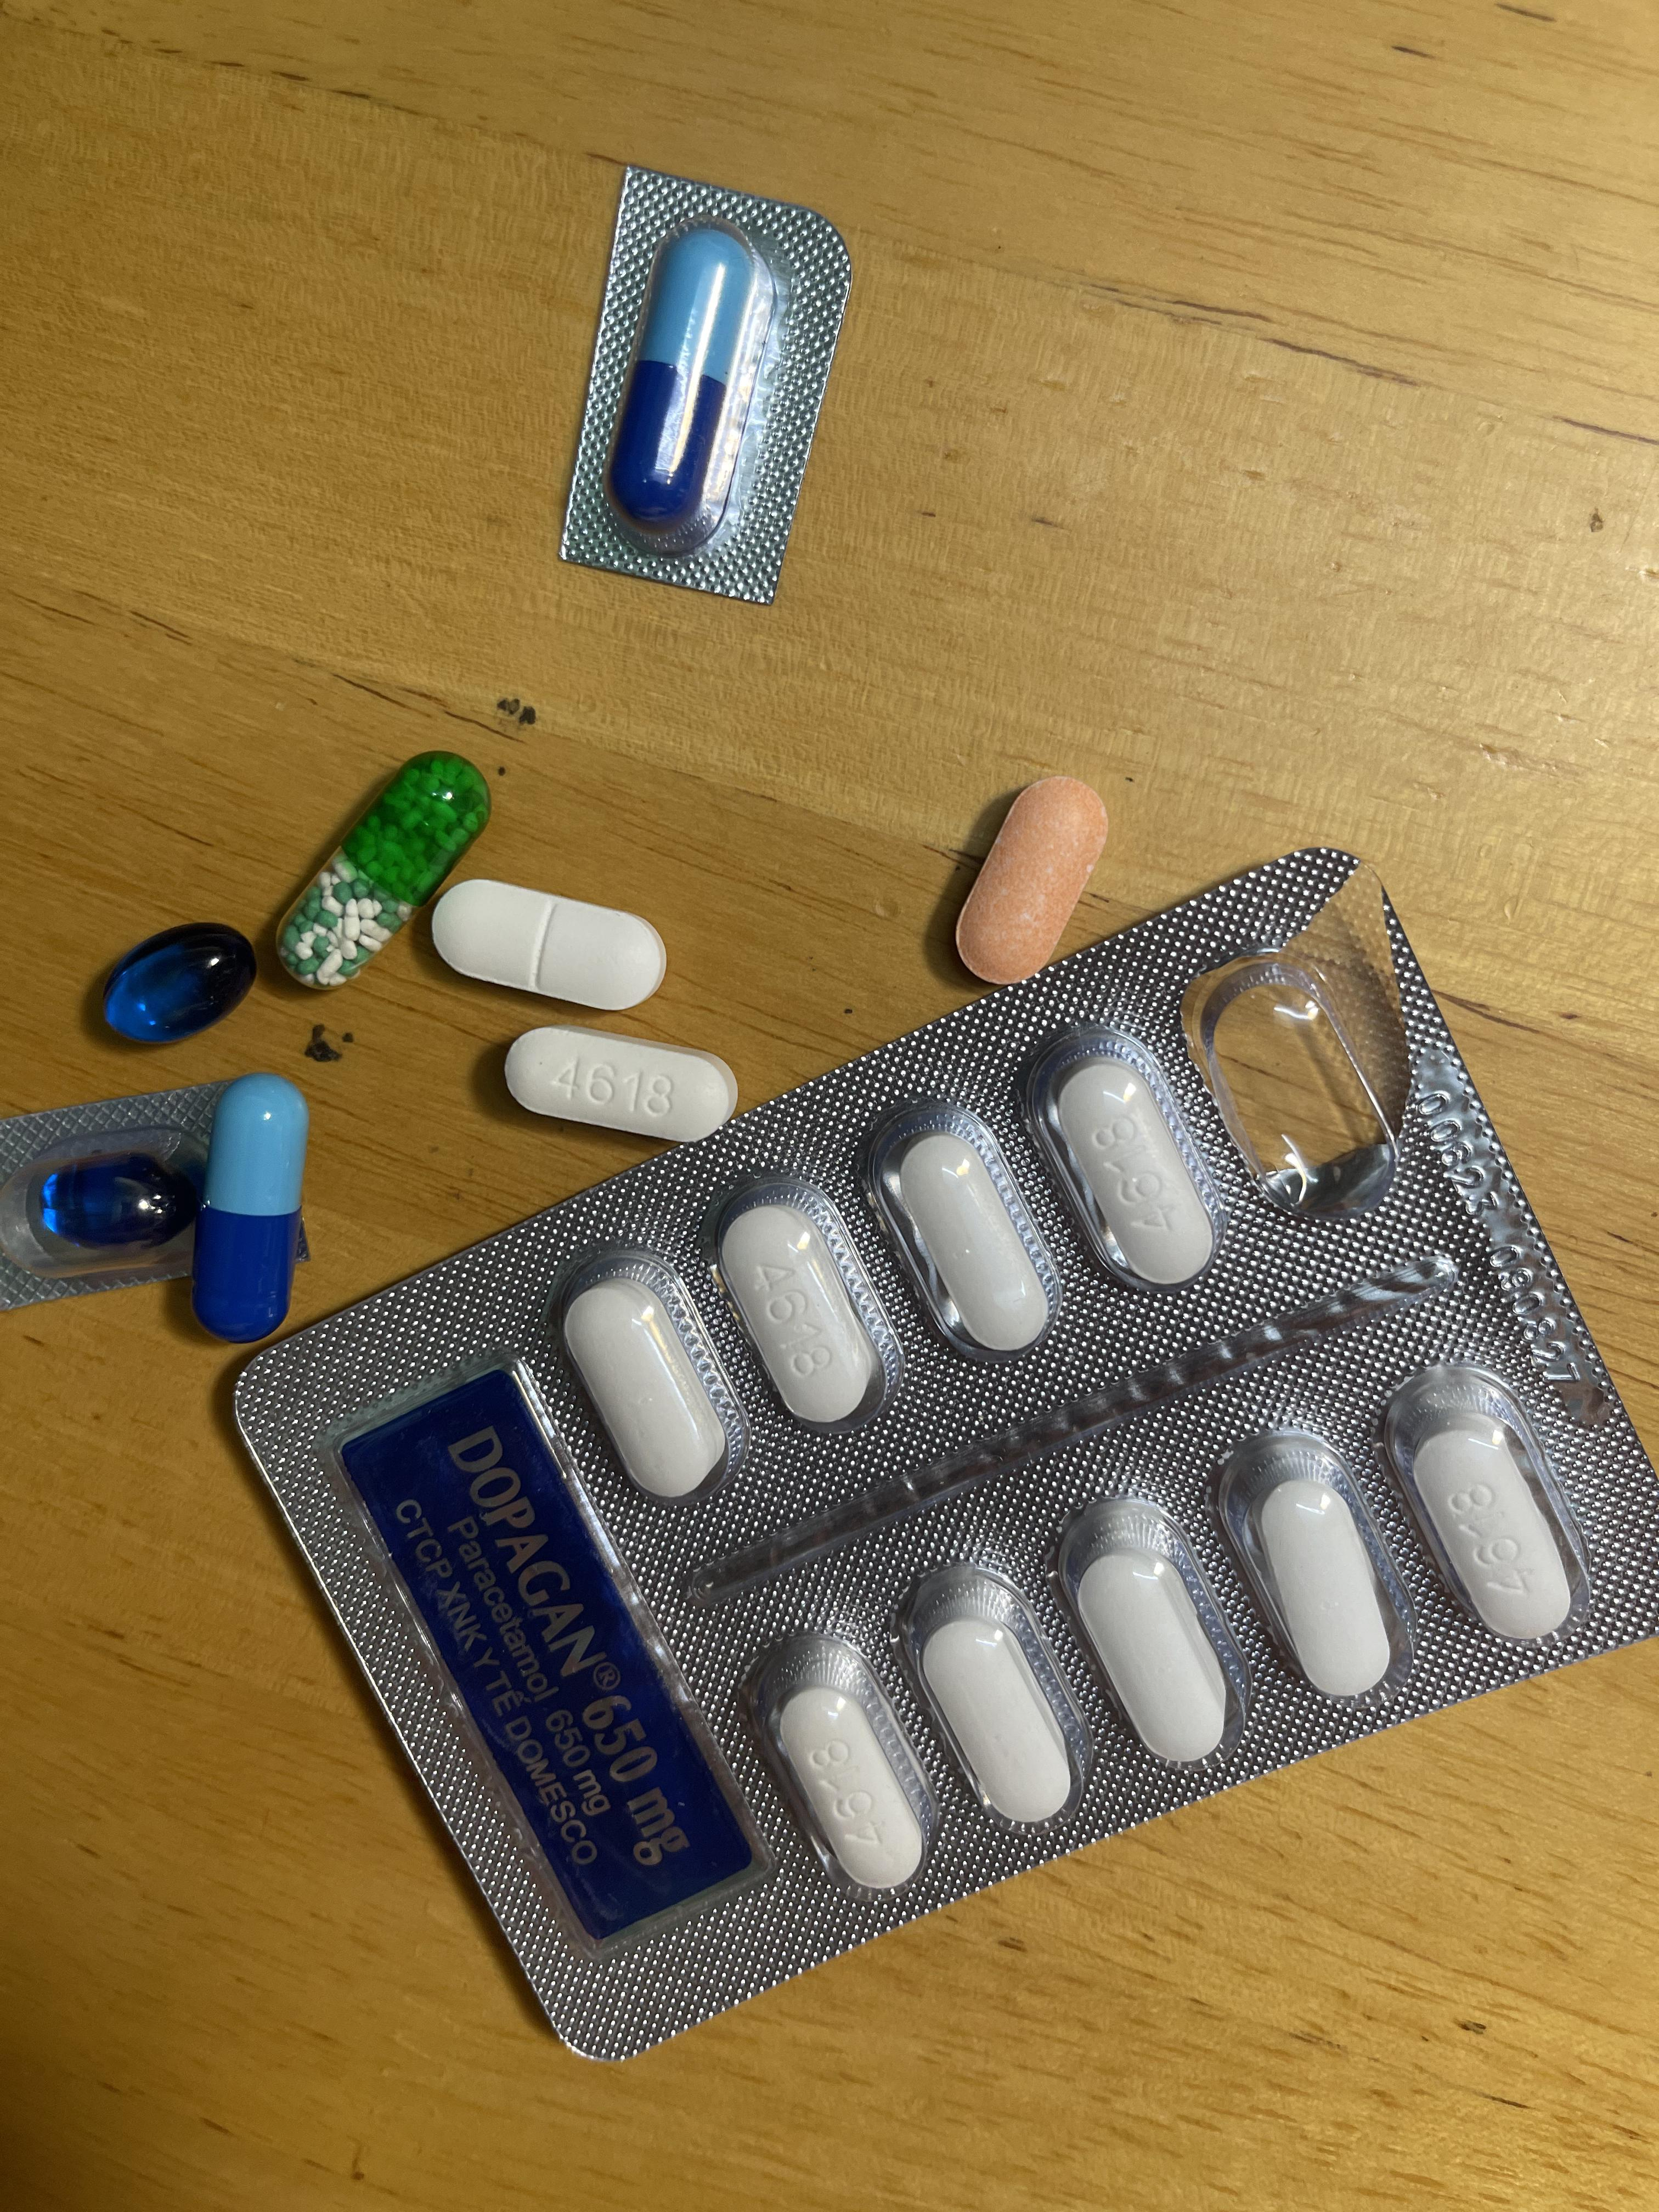Lincomyxin_500mg: (108, 921, 256, 1042), (40, 1160, 190, 1249)
Loratadine_10mg: (951, 779, 1110, 981)
Paracetamol_350mg: (430, 880, 667, 1010)
Paracetamol_500mg: (1030, 1040, 1218, 1287), (1410, 1423, 1572, 1642), (1075, 1547, 1230, 1770), (890, 1129, 1044, 1352), (566, 1282, 721, 1500), (1249, 1472, 1392, 1703), (723, 1207, 870, 1426), (922, 1615, 1072, 1829), (774, 1684, 922, 1893), (507, 1031, 734, 1136)
Paracetamol_650mg: (272, 754, 490, 989)
pill: (617, 226, 765, 535), (193, 1078, 305, 1332)
